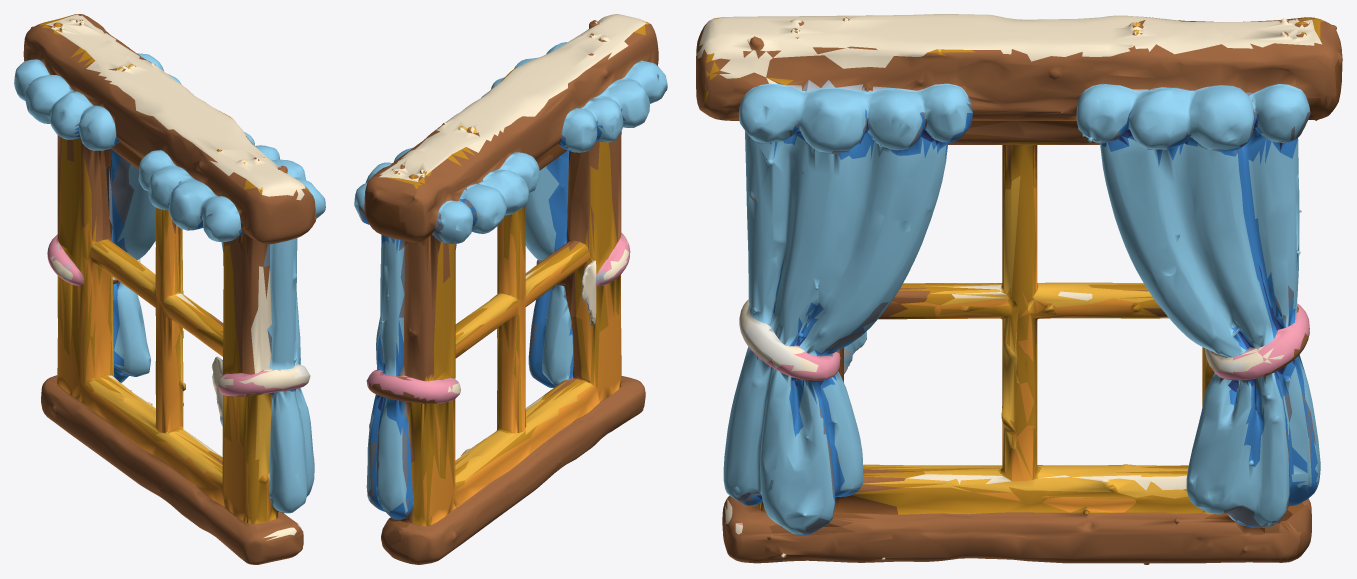
Rendered from SM_window_curtain.glb.
3 views of the same model, side by side, from view 1: azimuth 30°, elevation 25°; view 2: azimuth 150°, elevation 25°; view 3: azimuth 270°, elevation 25° (orthographic). The views are drawn at different scales.
Visible parts, largest first — view 1: SM_window_curtain; view 2: SM_window_curtain; view 3: SM_window_curtain.
Boxes of the visible parts, box(x1,y1,x2,y2) form: SM_window_curtain: box(14, 14, 325, 564); SM_window_curtain: box(354, 14, 667, 564); SM_window_curtain: box(696, 14, 1342, 564).
Bounding box in the file's own units: 0.494 × 1.4 × 1.55.
Materials: 1 (1 with a texture image).
